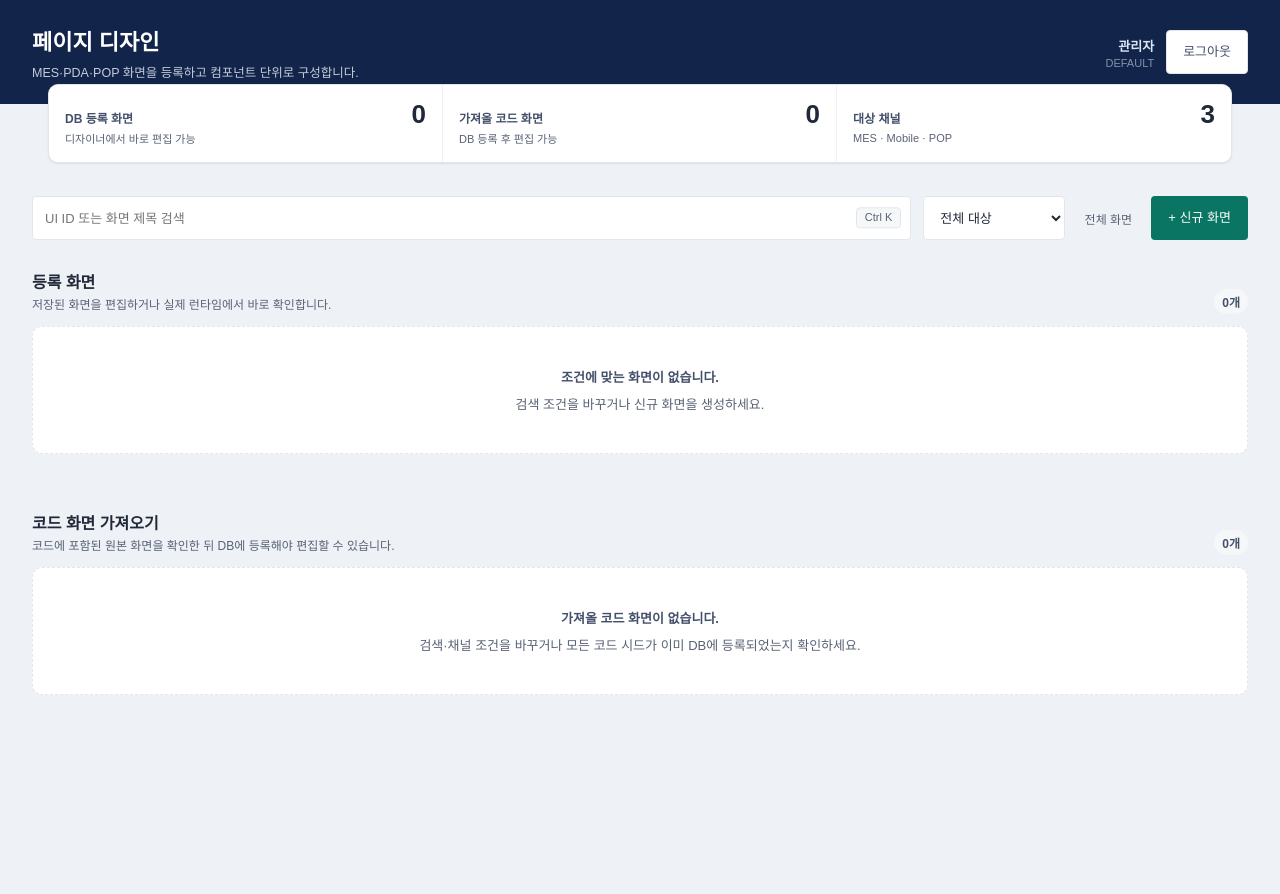
Test: DesignerHome › 코드 시드 확인이 404가 아닌 오류면 안전하게 신규 생성을 중단
The image size is (1280, 894).
Expected: the text "조건에 맞는 화면이 없습니다." is shown, [561,370,719,385]
Click the button "+ 신규 화면" at (1200, 218), box [1151,196,1248,240]
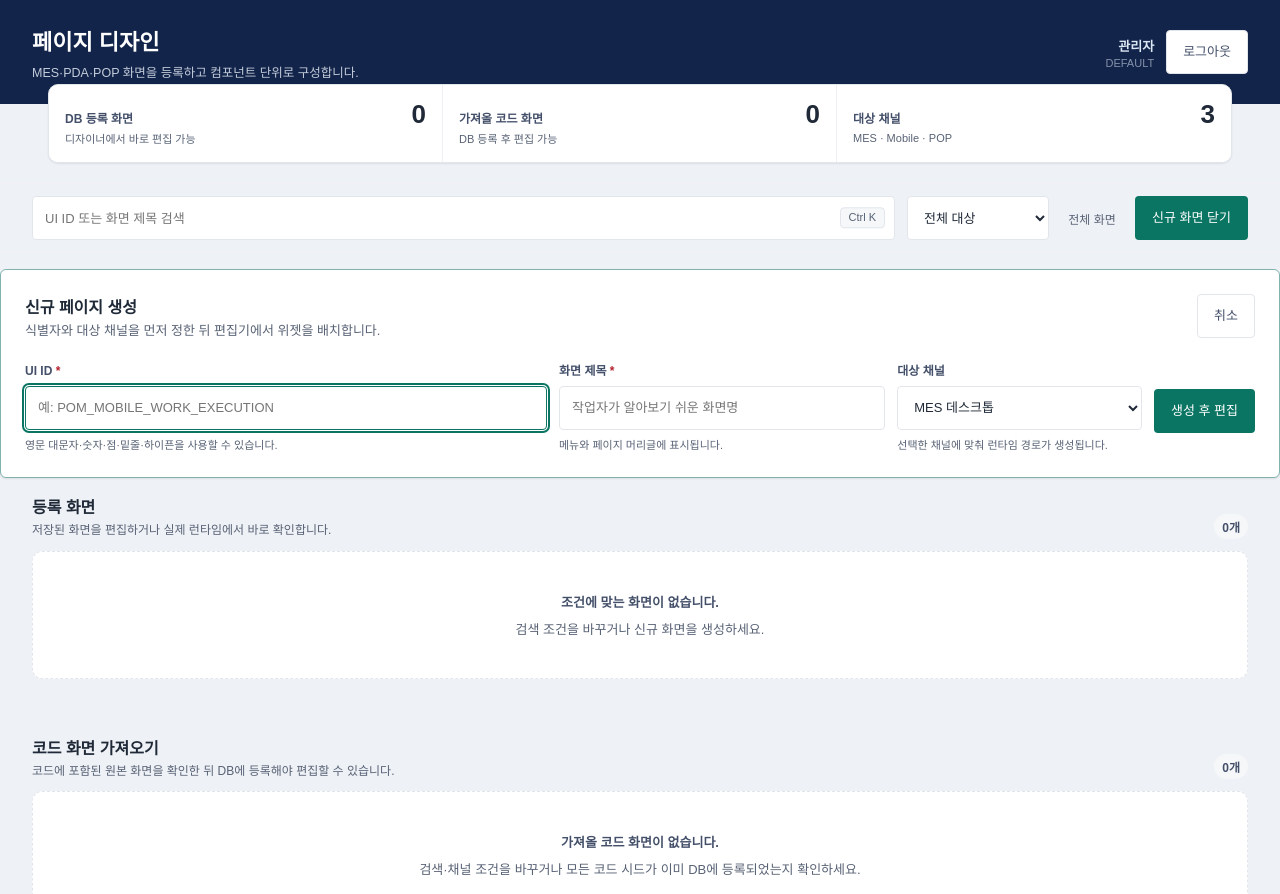
Type "NEW_WHILE_OFFLINE" into the field labelled "UI ID" at (286, 408), box [25,386,547,430]
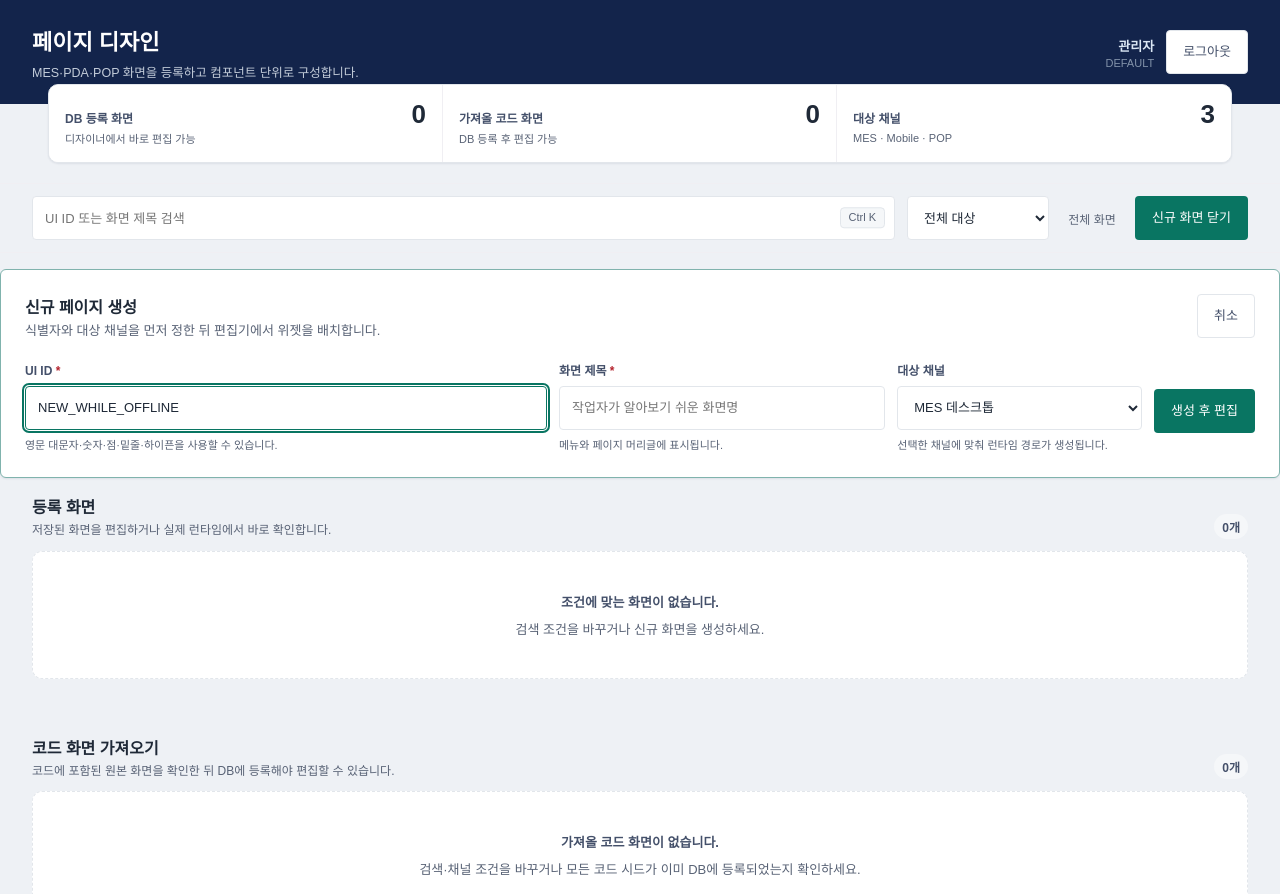
Type "신규 화면" into the field labelled "화면 제목" at (722, 408), box [559,386,885,430]
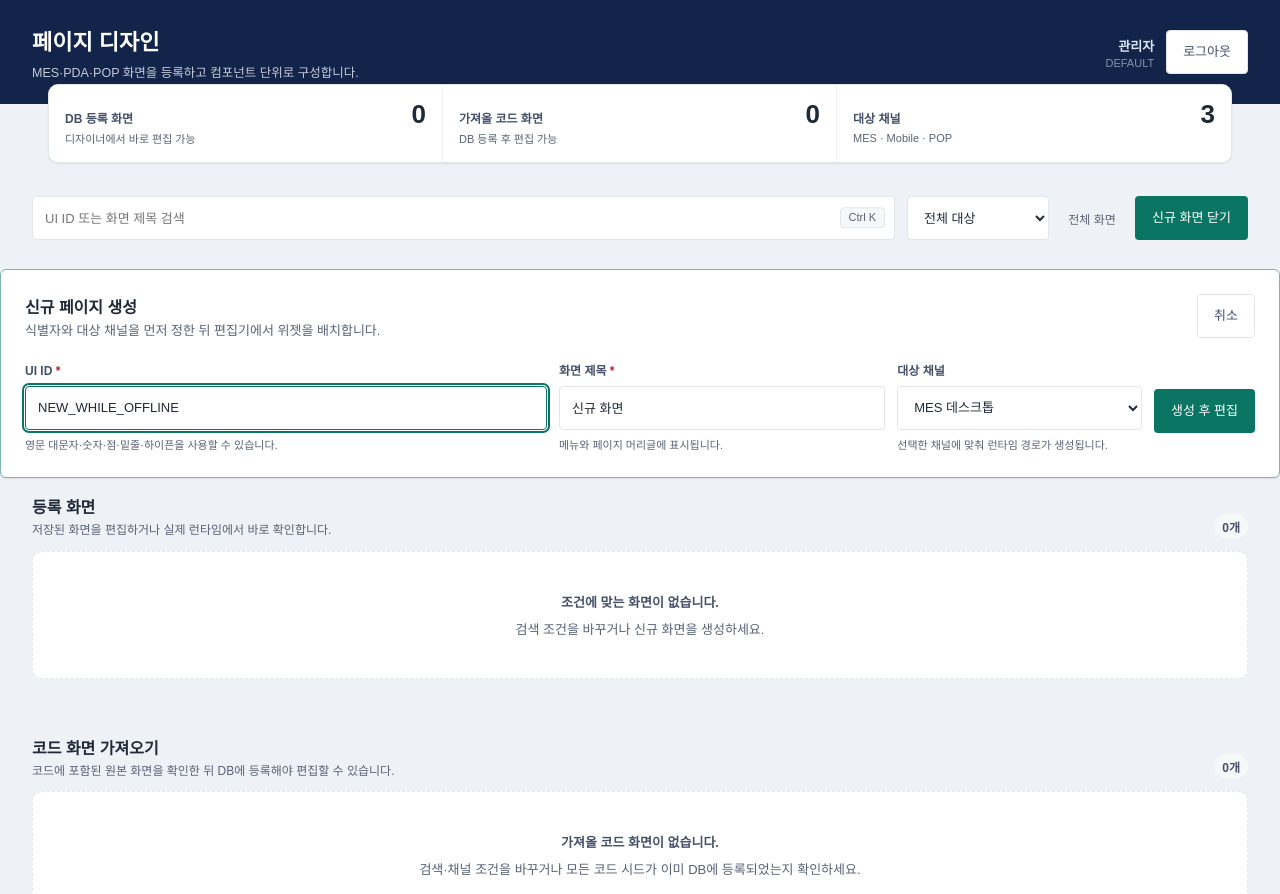
Click the button "생성 후 편집" at (1204, 411), box [1154,389,1255,433]
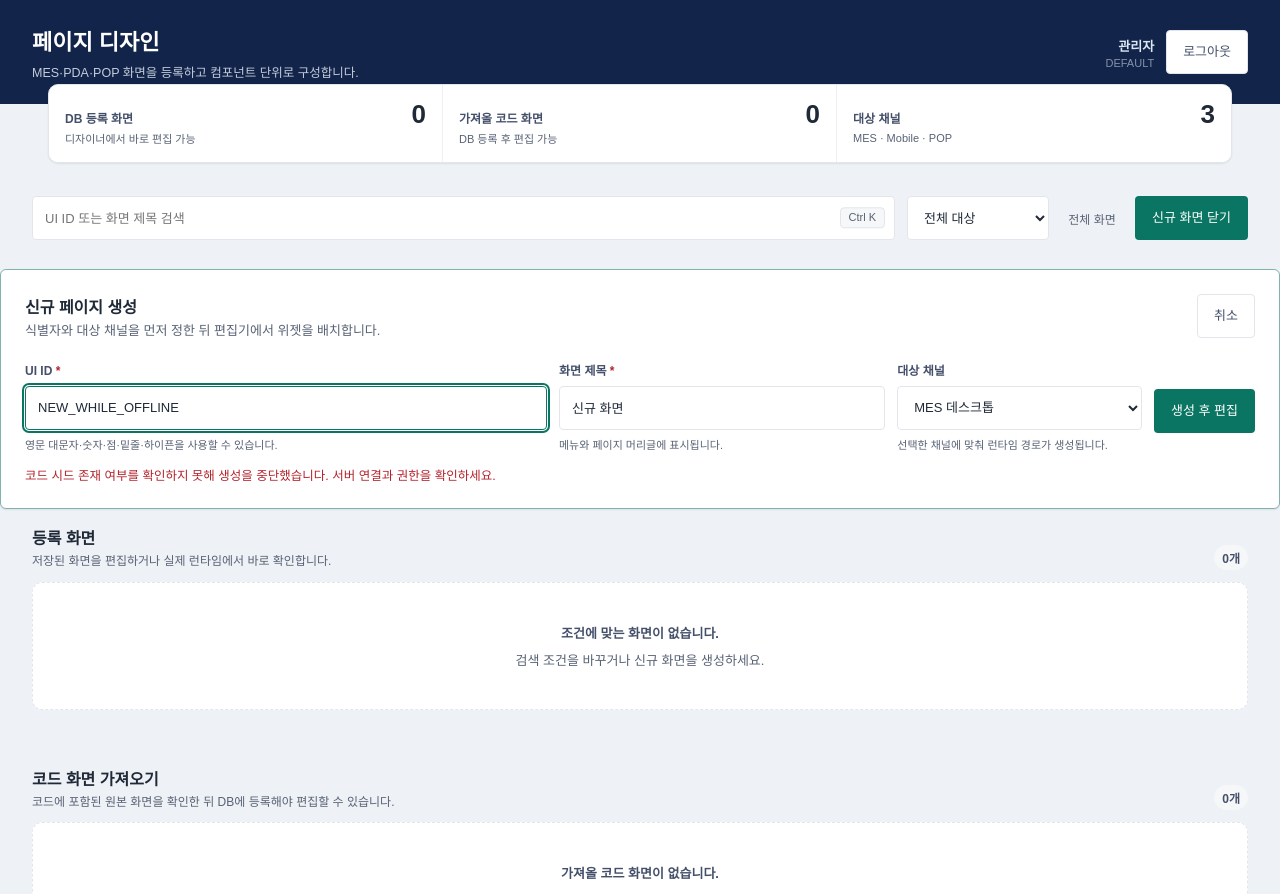
Expected: the message shows "코드 시드 존재 여부를 확인하지 못해 생성을 중단했습니다.", [25,469,496,483]
